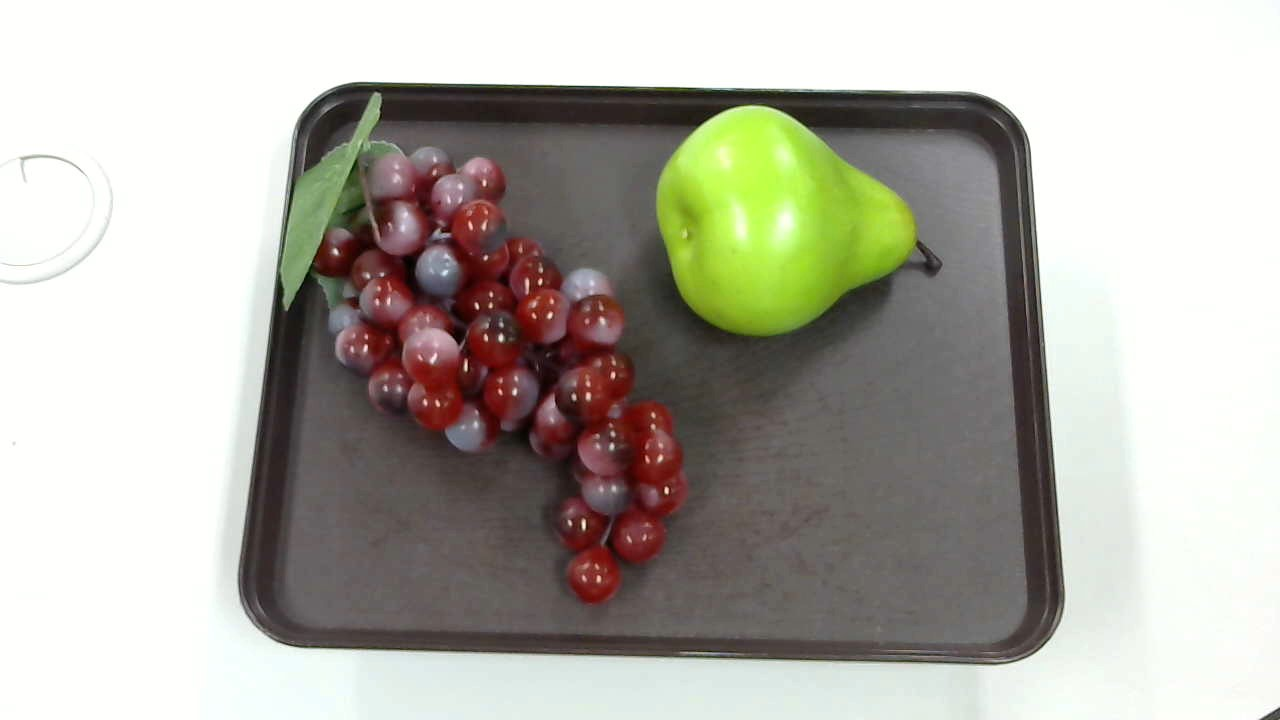grape: (268, 93, 690, 602)
green pear: (659, 107, 944, 342)
